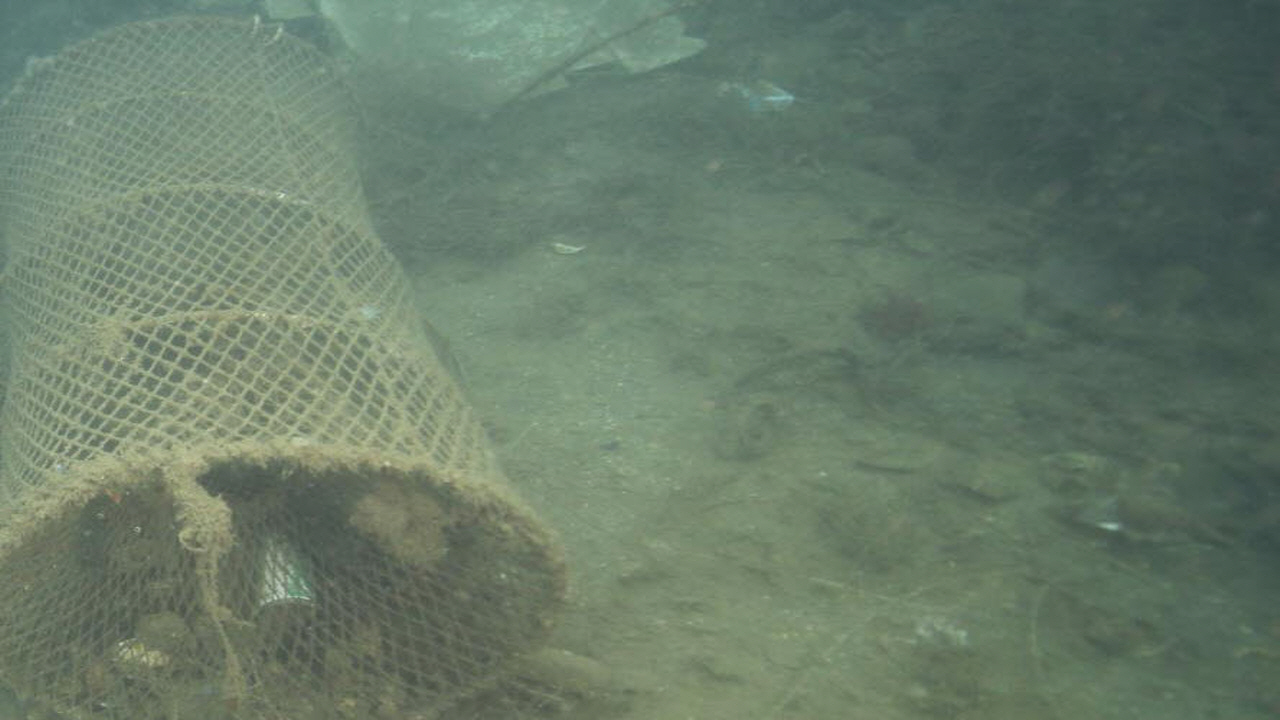spring fish trap: (0, 15, 568, 720)
